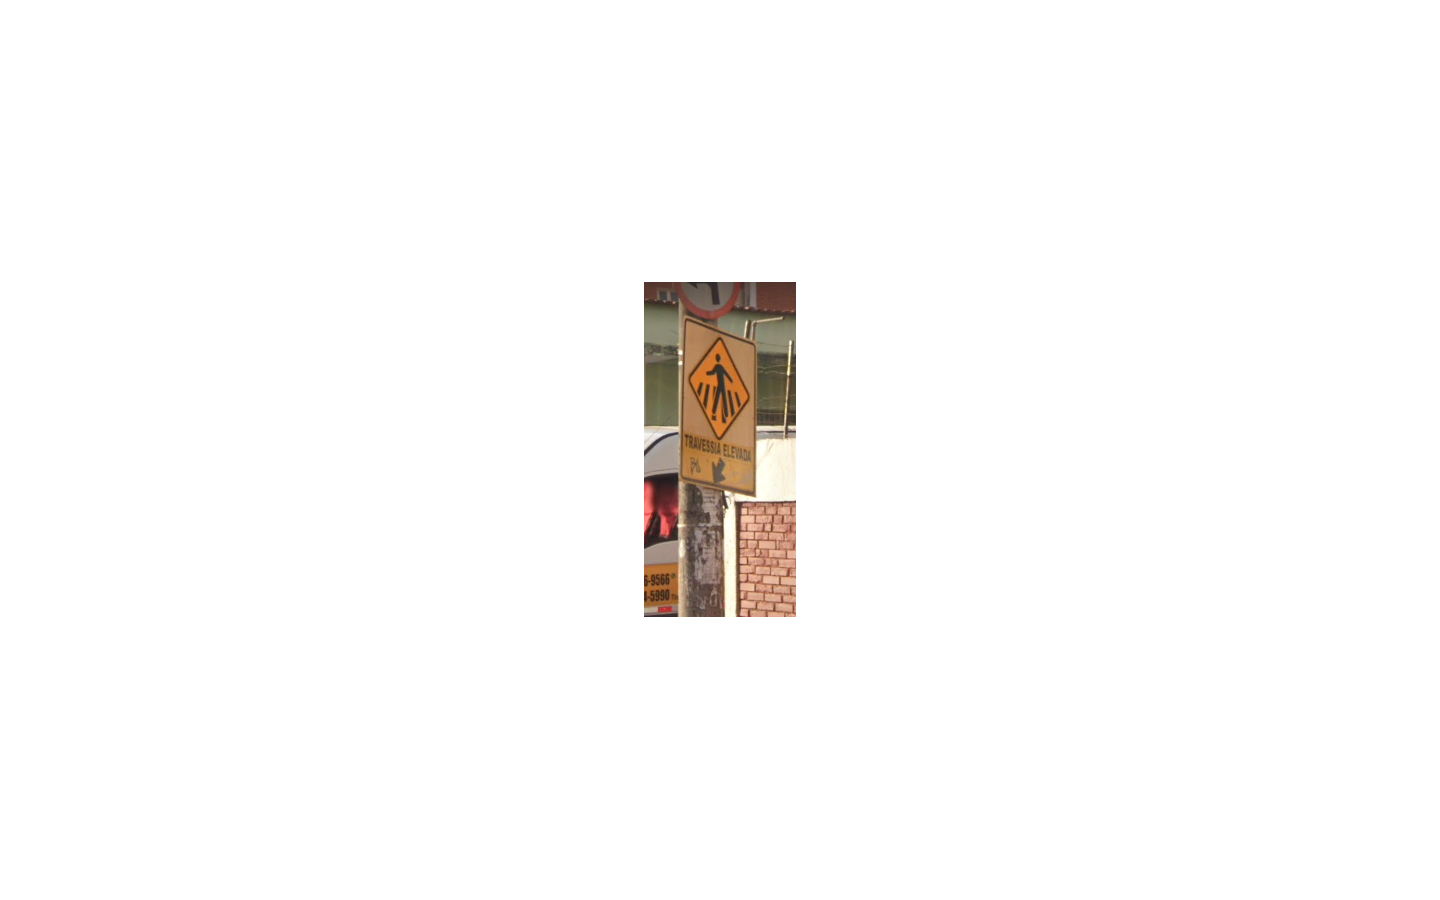telev: (679, 314, 756, 497)
